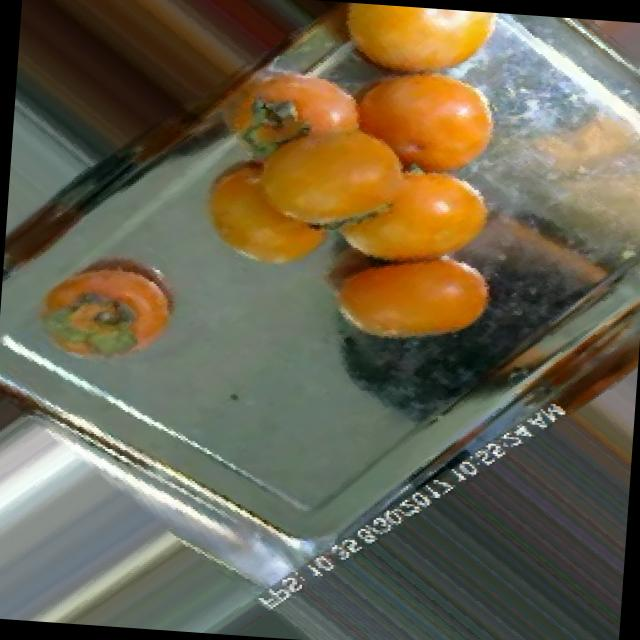Fruit: (291, 210, 518, 368), (176, 122, 362, 290), (13, 223, 200, 379), (314, 0, 520, 85)
